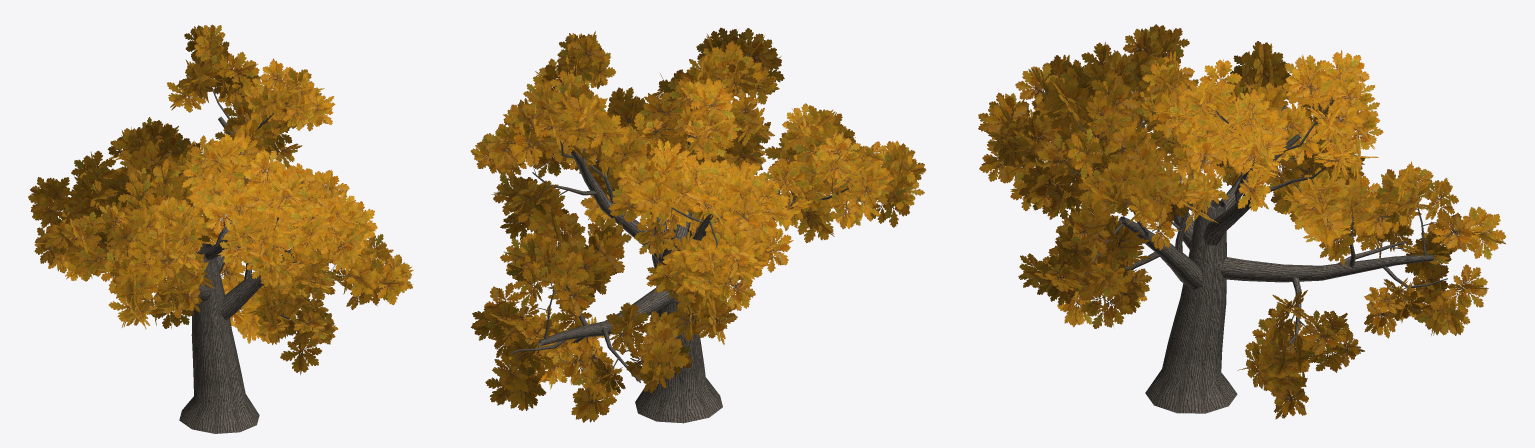
Rendered from nature-white-great-sun-oak_v3.glb.
3 renders of one model, left to right at view 1: azimuth 30°, elevation 25°; view 2: azimuth 150°, elevation 25°; view 3: azimuth 270°, elevation 25°, orthographic. The views are drawn at different scales.
Parts seen in each view (by area): view 1: nature-white-great-sun-oak; view 2: nature-white-great-sun-oak; view 3: nature-white-great-sun-oak.
Part boxes in pixels (<box>): nature-white-great-sun-oak: <box>28,24,413,433</box>; nature-white-great-sun-oak: <box>470,27,926,423</box>; nature-white-great-sun-oak: <box>978,24,1505,419</box>.
Bounding box in the file's own units: 14.8 × 14.48 × 19.14.
2 materials, 2 textured.
